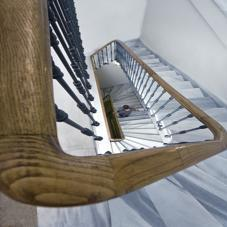Animal: (118, 28, 227, 171)
